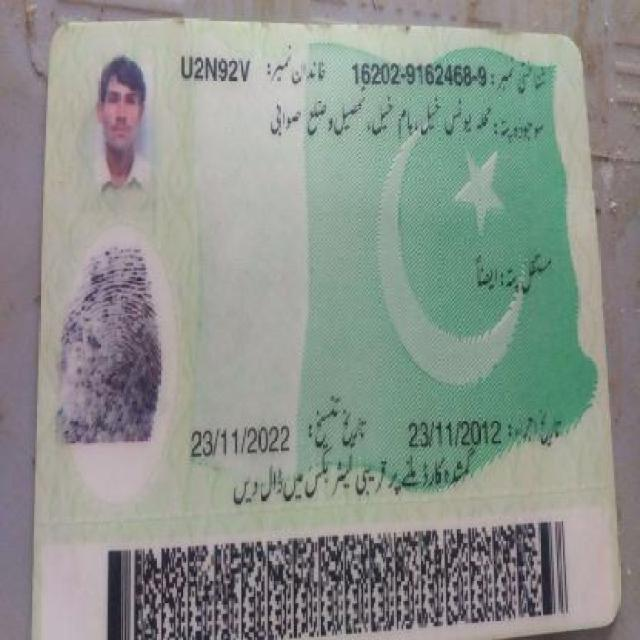Back: (34, 21, 615, 624)
